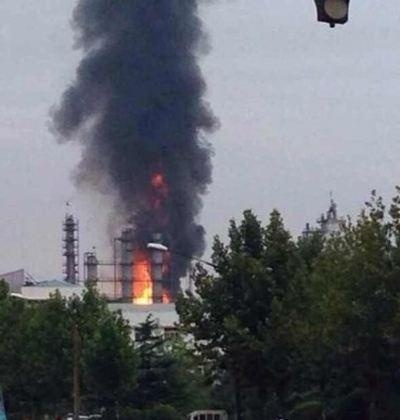fire: (129, 251, 160, 304)
